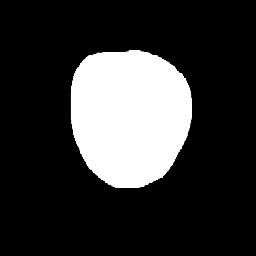mass: (71, 48, 194, 183)
